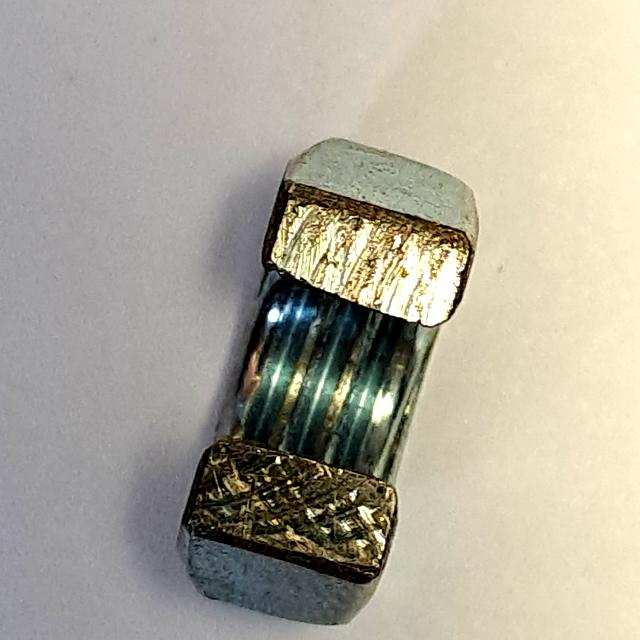Side-Fracture: (168, 130, 494, 637)
